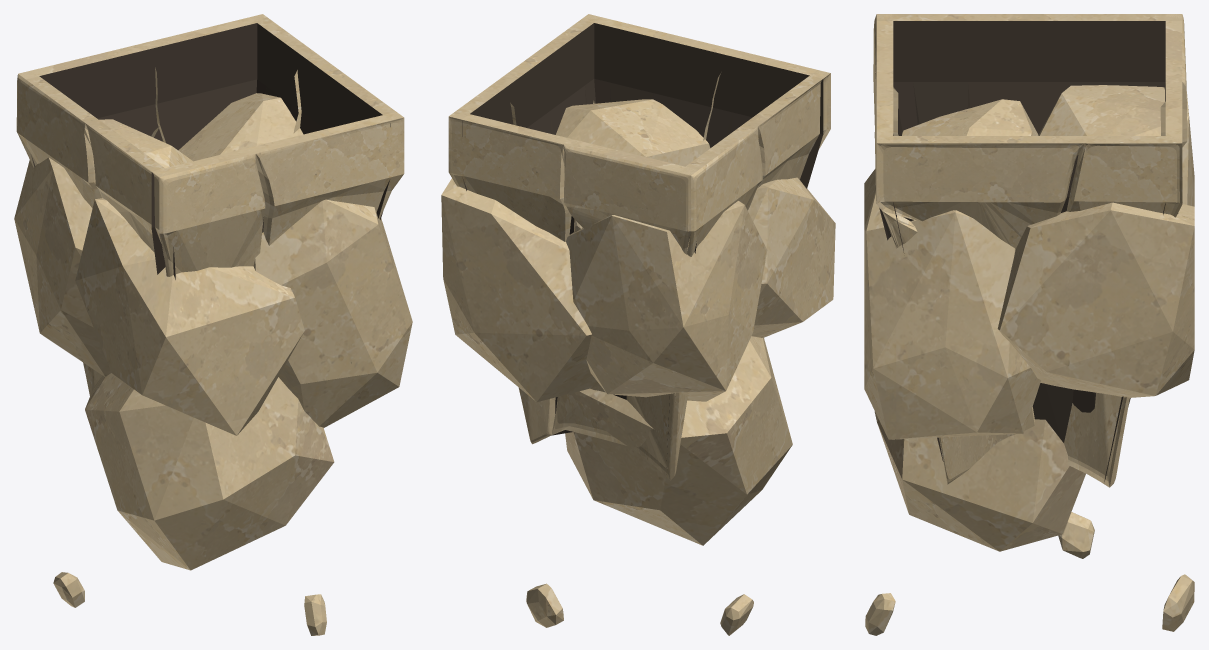
File: ground_bottom_square_island_03.glb
3 renders of one model, left to right at view 1: azimuth 30°, elevation 25°; view 2: azimuth 150°, elevation 25°; view 3: azimuth 270°, elevation 25°, orthographic. The views are drawn at different scales.
Parts seen in each view (by area): view 1: GroundBottomSquareIsland03_Body; view 2: GroundBottomSquareIsland03_Body; view 3: GroundBottomSquareIsland03_Body.
Part boxes in pixels (x1,y1,x2,y2): GroundBottomSquareIsland03_Body: (14,14,412,635); GroundBottomSquareIsland03_Body: (441,14,835,635); GroundBottomSquareIsland03_Body: (864,14,1194,635).
Bounding box in the file's own units: 1.08 × 1.95 × 1.08.
14 materials, 13 textured.
